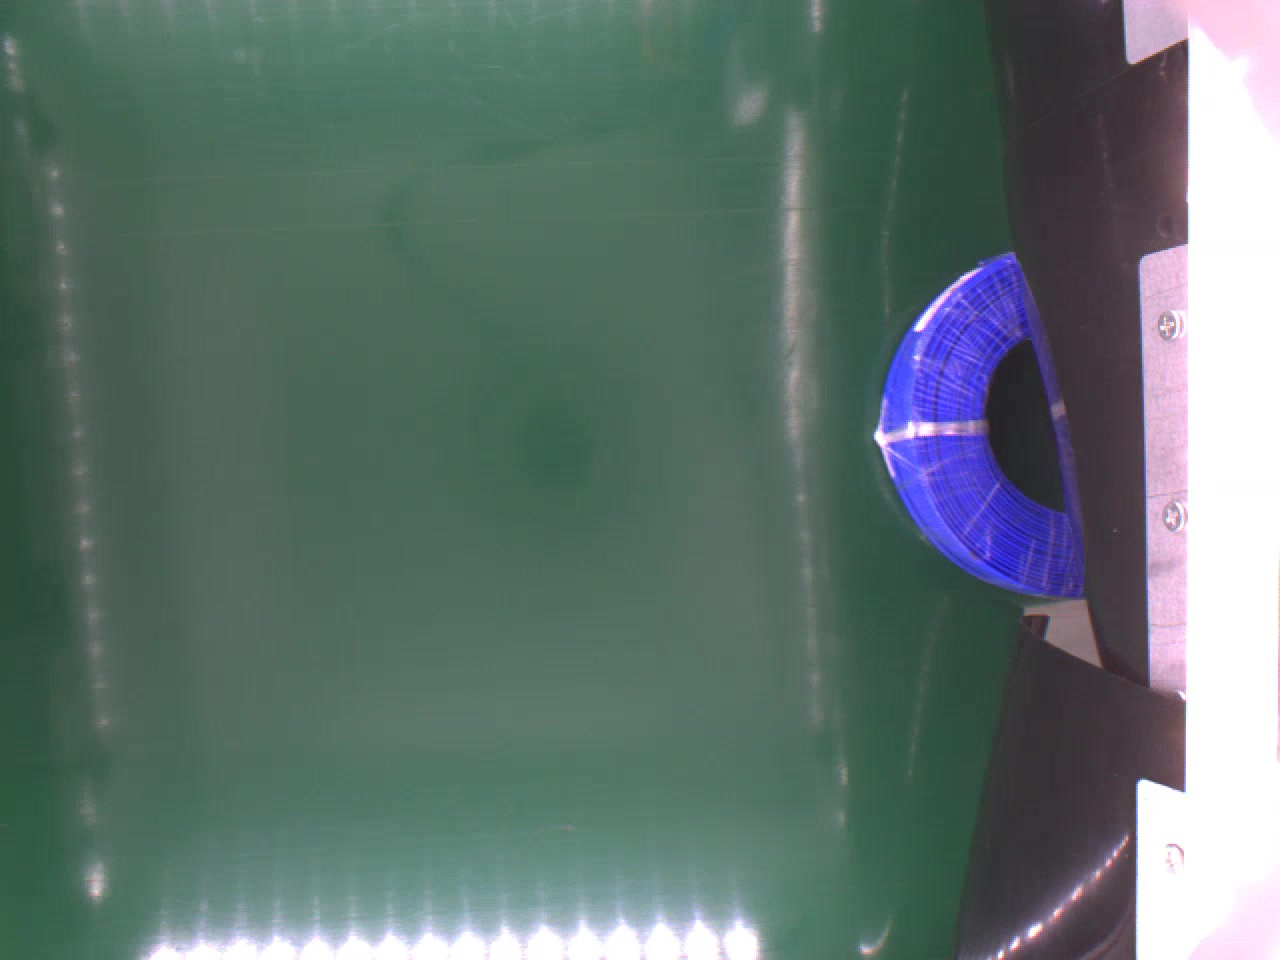blue: (871, 249, 1080, 600)
